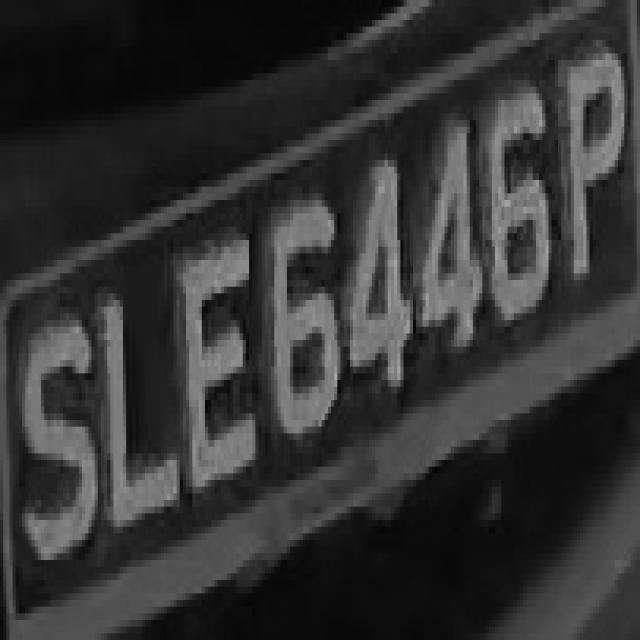4: (337, 147, 410, 420), (407, 100, 476, 360)
6: (258, 187, 344, 453), (479, 80, 555, 333)
E: (173, 220, 265, 513)
L: (94, 253, 183, 540)
P: (552, 47, 634, 293)
S: (15, 300, 94, 567)
